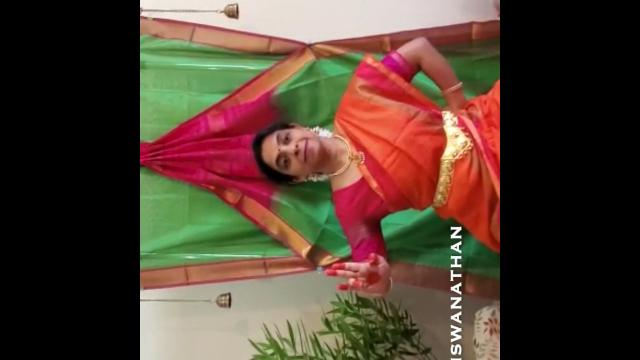tripataka: (307, 246, 401, 314)
